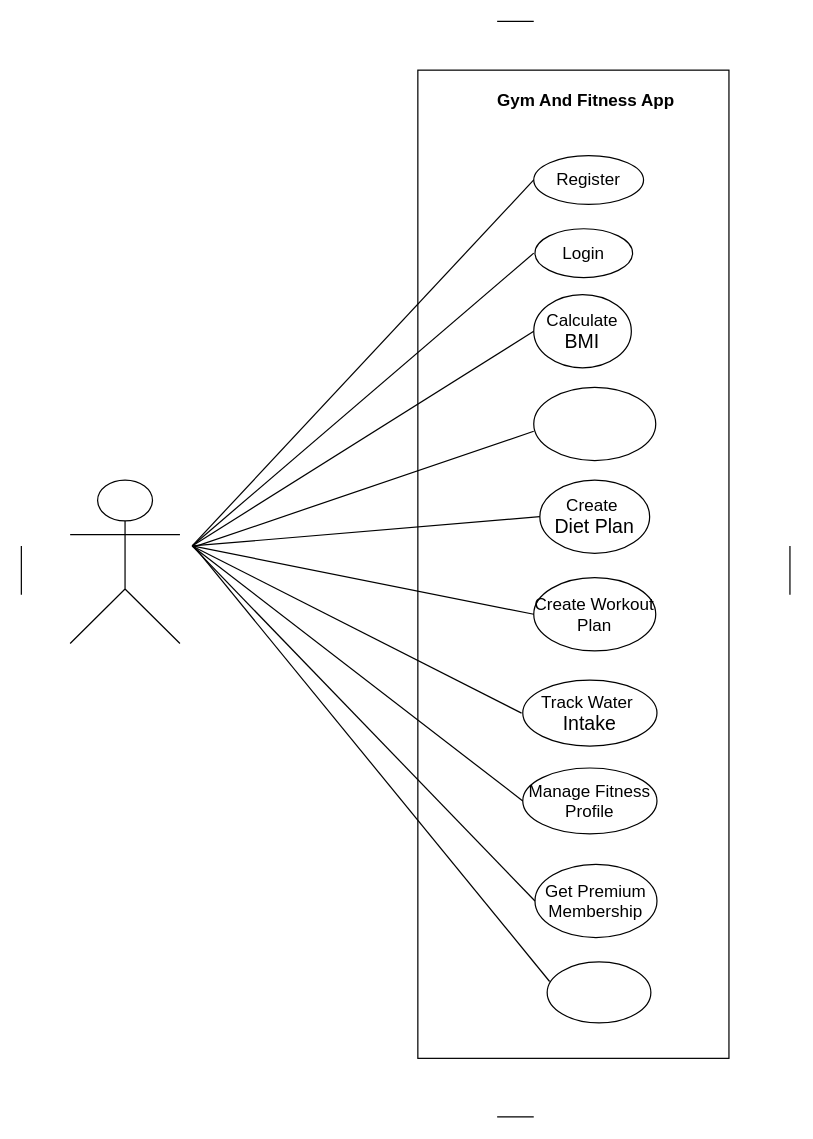
This 813x1139 diagram has some shape labels left out. The shapes that lost their labels are listed below. From the top down, each one's centre as x and y in pixels, then its label:
At (x=594, y=423): "Track Fitness Progress".
At (x=124, y=561): "User".
At (x=598, y=992): "Logout".
